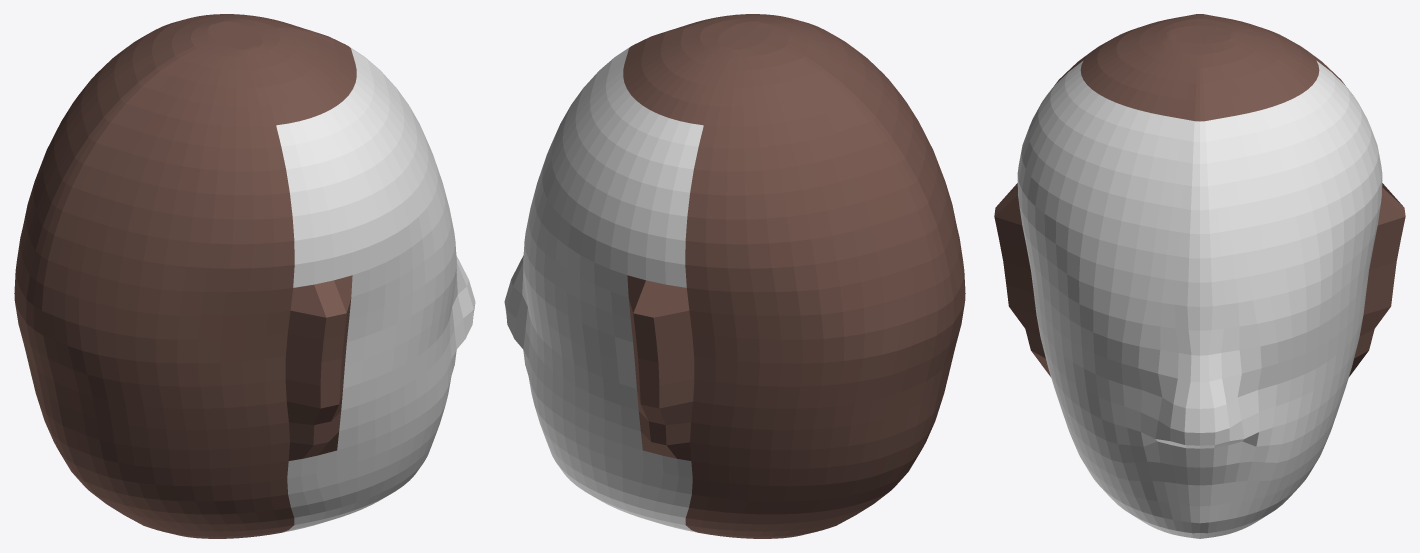
Rendered from PutinHead.fbx.
3 renders of one model, left to right at view 1: azimuth 30°, elevation 25°; view 2: azimuth 150°, elevation 25°; view 3: azimuth 270°, elevation 25°, orthographic. The views are drawn at different scales.
Parts seen in each view (by area): view 1: PutinHead; view 2: PutinHead; view 3: PutinHead.
Part boxes in pixels (left/top/right/bottom): PutinHead: left=14, top=14, right=475, bottom=538; PutinHead: left=504, top=14, right=965, bottom=538; PutinHead: left=994, top=14, right=1405, bottom=538.
Size of the model in its own units: 106 by 120 by 129.
